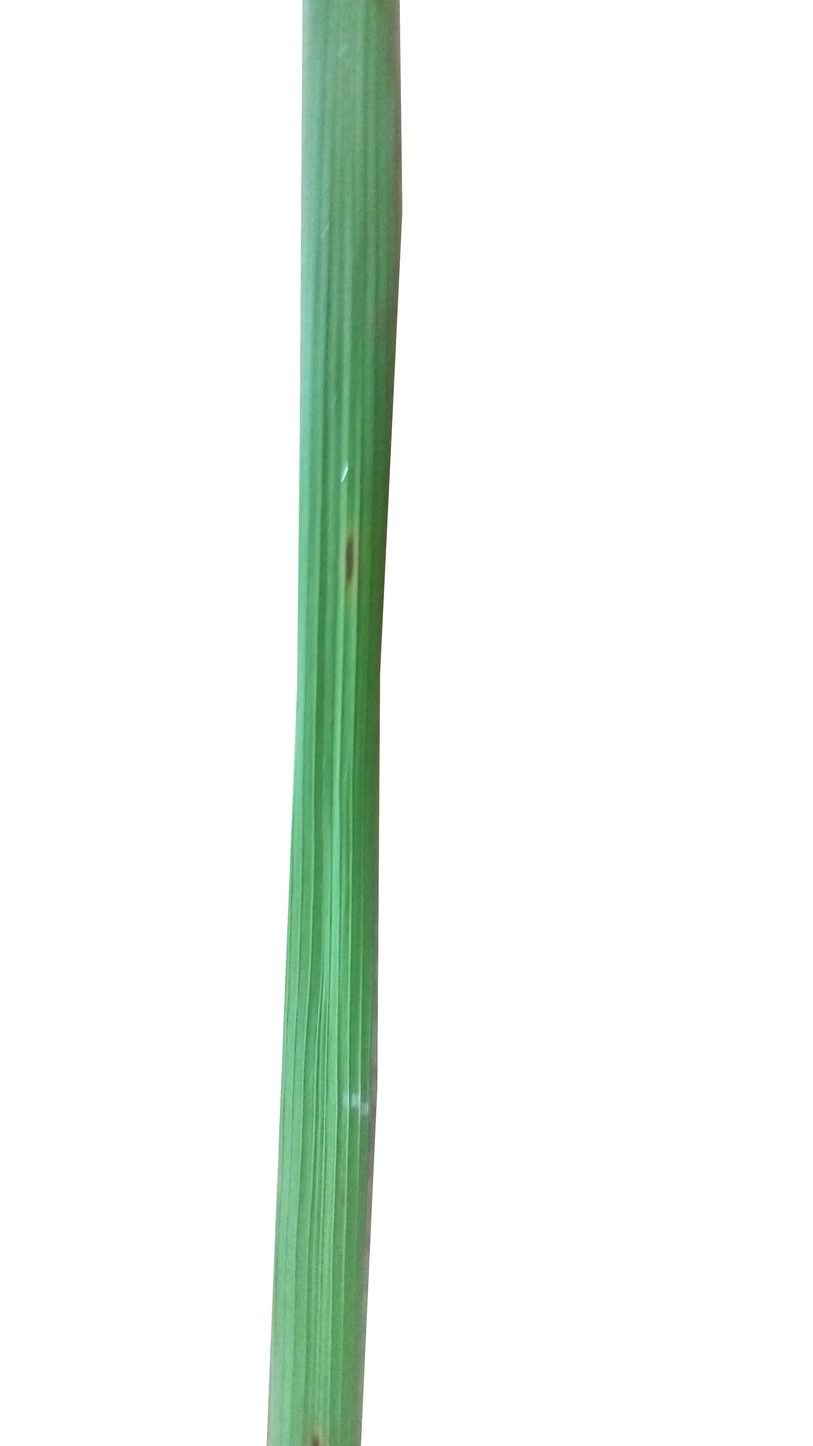Brown spot: (330, 535, 379, 619)
